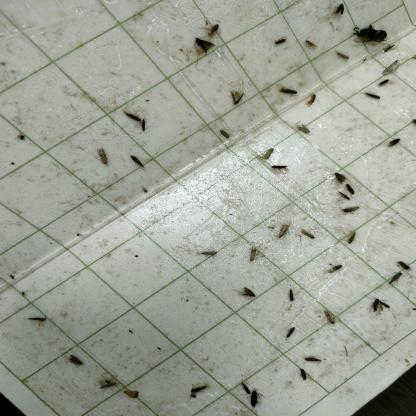prays_oleae: (120, 108, 146, 134), (191, 32, 213, 62), (318, 303, 338, 334), (229, 85, 249, 116), (63, 342, 83, 372), (122, 382, 146, 405), (266, 30, 287, 54), (206, 17, 222, 48), (259, 139, 278, 165), (28, 306, 48, 330), (184, 379, 204, 403), (366, 296, 386, 318), (278, 80, 298, 100), (98, 374, 119, 393), (129, 146, 144, 172), (198, 245, 222, 261), (340, 202, 362, 219), (217, 124, 233, 147), (378, 61, 401, 77), (293, 119, 311, 138), (299, 221, 315, 242), (304, 354, 326, 369), (304, 30, 315, 60), (362, 92, 380, 110), (326, 260, 343, 279), (237, 283, 260, 297), (381, 37, 399, 54), (387, 268, 400, 291), (247, 241, 259, 265), (237, 376, 251, 396), (249, 386, 262, 406), (388, 134, 401, 154), (282, 327, 296, 345), (97, 149, 111, 167), (338, 46, 352, 63), (272, 159, 286, 175), (397, 256, 410, 273), (307, 90, 319, 108), (374, 76, 390, 89), (276, 222, 288, 239), (337, 189, 351, 203), (300, 362, 308, 386), (285, 288, 296, 304), (346, 228, 356, 244), (333, 172, 346, 184), (344, 185, 356, 195)
